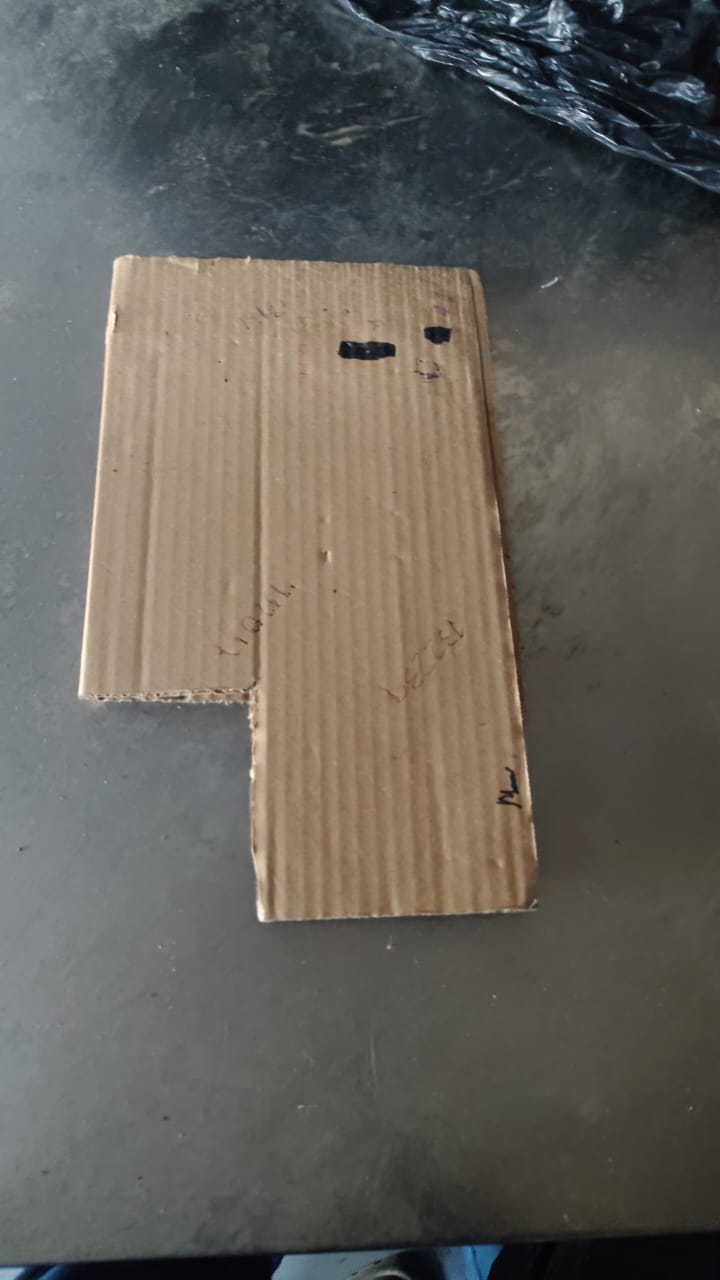Carton: (73, 254, 548, 918)
